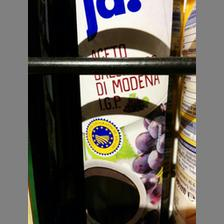Essig: (76, 0, 173, 224)
